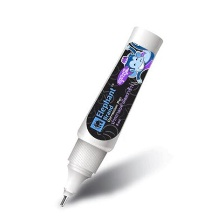correction_fluid: (55, 24, 163, 209)
